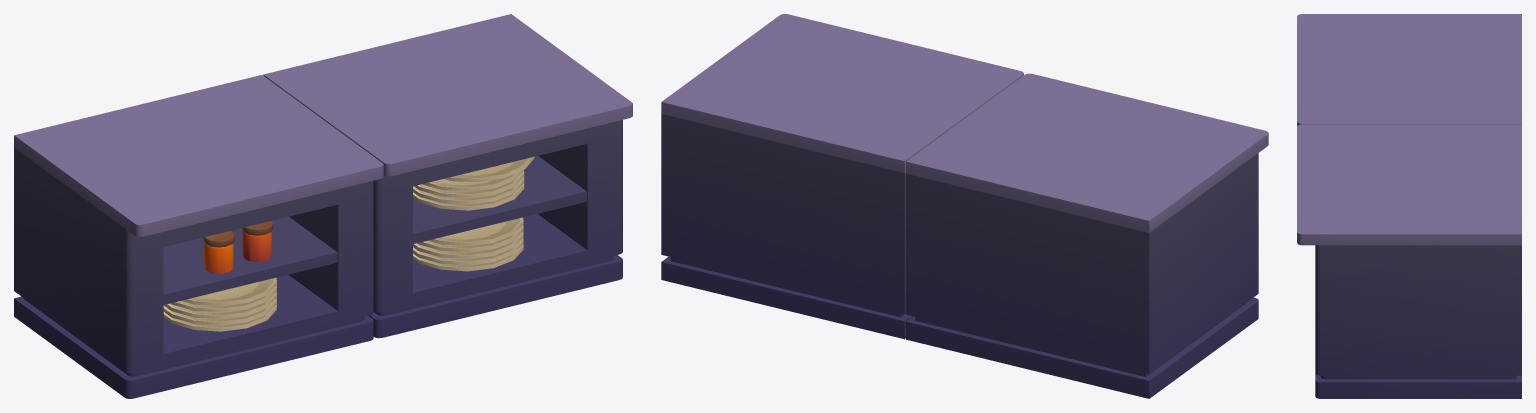
File: Cupboard_Plate.fbx
3 renders of one model, left to right at view 1: azimuth 30°, elevation 25°; view 2: azimuth 150°, elevation 25°; view 3: azimuth 270°, elevation 25°, orthographic. The views are drawn at different scales.
Visible parts, largest first — view 1: Cupboard_Plate; view 2: Cupboard_Plate; view 3: Cupboard_Plate.
Part boxes in pixels (x1,y1,x2,y2): Cupboard_Plate: [14, 14, 632, 398]; Cupboard_Plate: [661, 14, 1268, 398]; Cupboard_Plate: [1297, 14, 1521, 398].
Bounding box in the file's own units: 2.47 × 0.8628 × 1.07.
